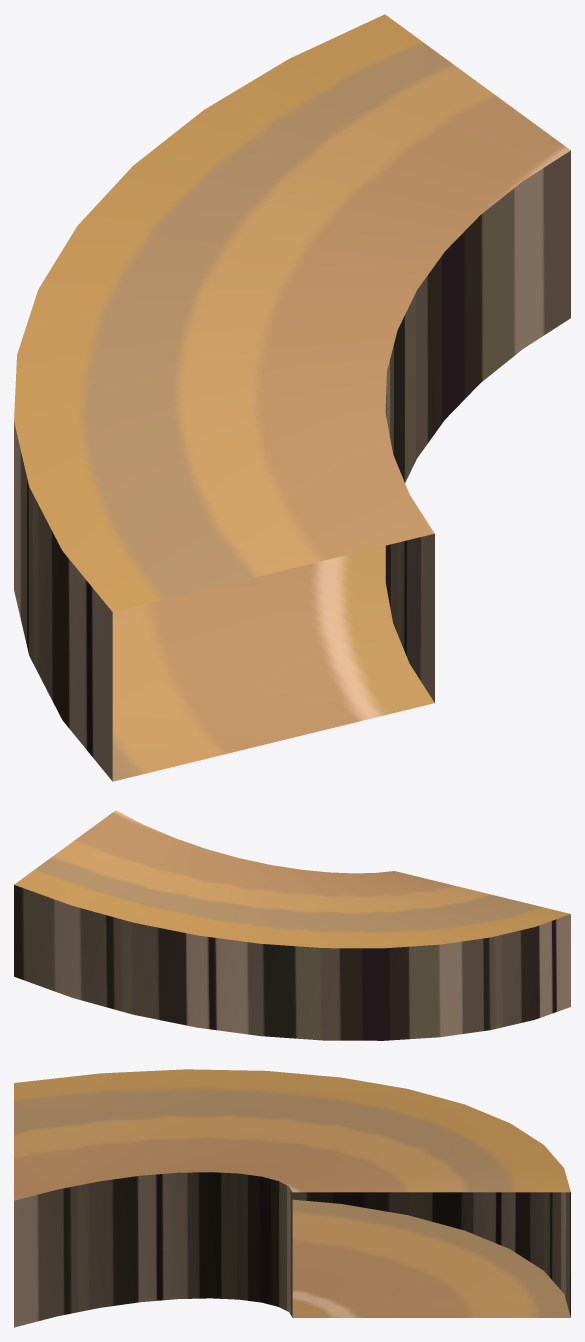
The model's file is quarter_pipe_sloping_2.obj.
The picture shows the model from 3 angles, top to bottom: view 1: azimuth 30°, elevation 25°; view 2: azimuth 150°, elevation 25°; view 3: azimuth 270°, elevation 25°; orthographic projection. The views are drawn at different scales.
Visible parts, largest first — view 1: pPipe2; view 2: pPipe2; view 3: pPipe2.
Part boxes in pixels (x1=…): pPipe2: x1=14, y1=14, x2=570, y2=781; pPipe2: x1=14, y1=810, x2=570, y2=1040; pPipe2: x1=14, y1=1069, x2=570, y2=1327.
Size of the model in its own units: 400 by 201 by 400.
